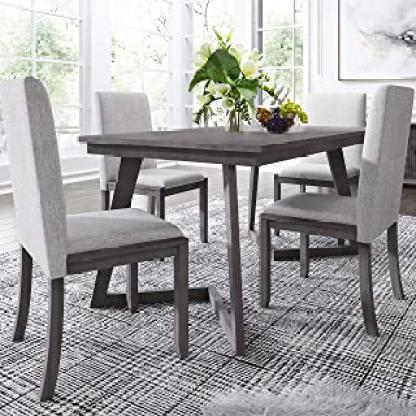chair: (0, 73, 195, 406), (257, 84, 416, 344), (85, 82, 211, 209), (268, 83, 366, 198)
table: (67, 120, 370, 354)
